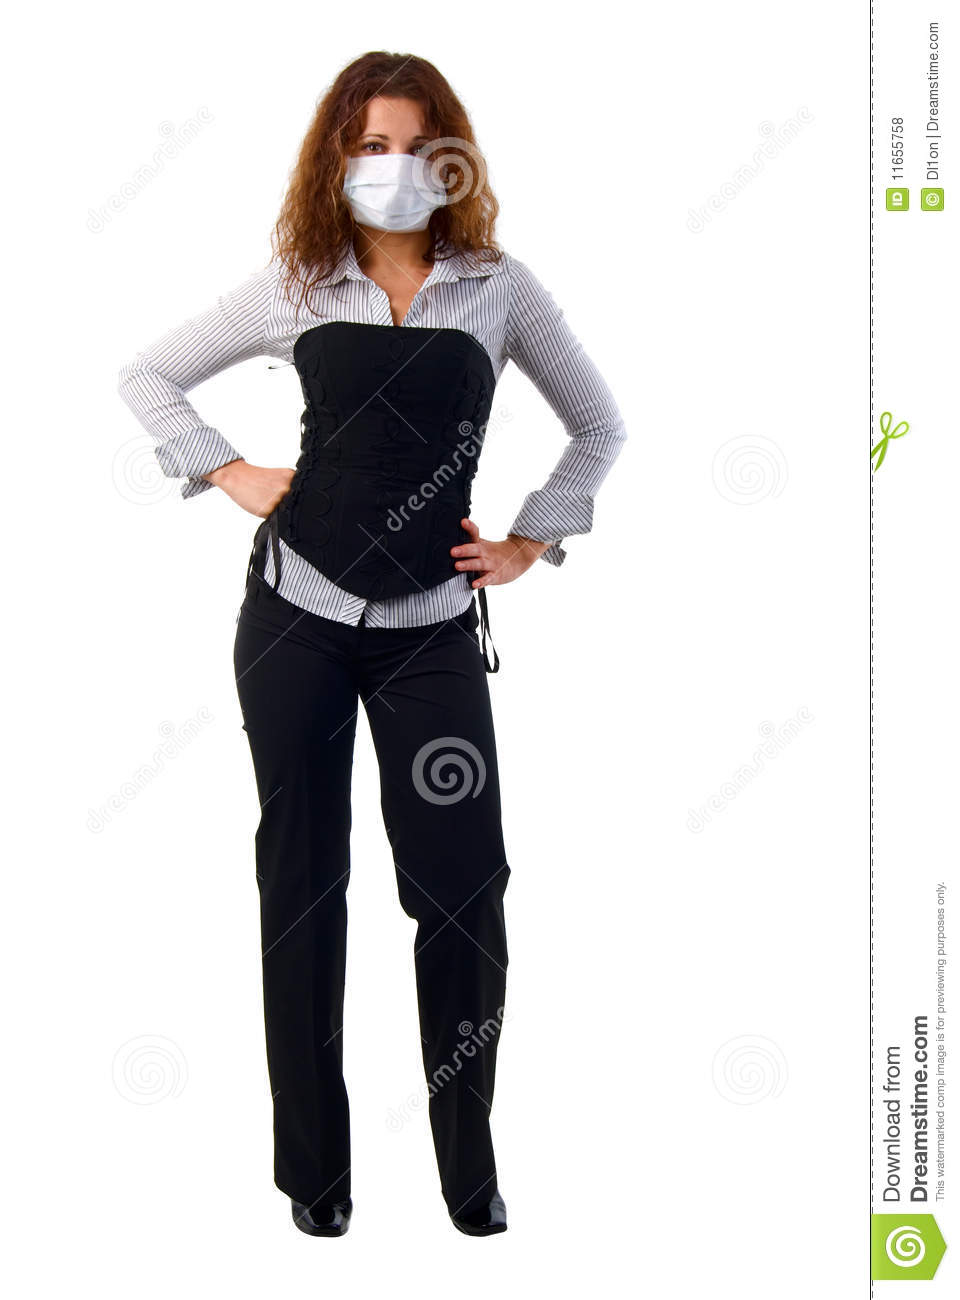mask: (341, 155, 445, 232)
